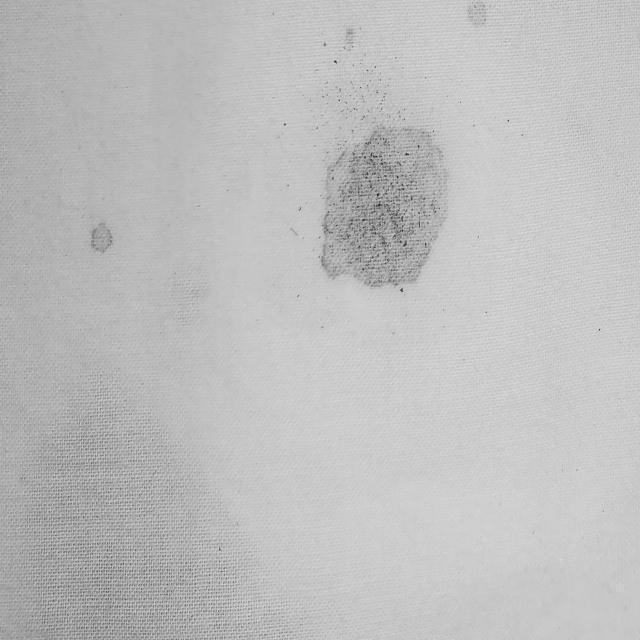Thread_other: (270, 61, 510, 321), (64, 206, 131, 264)
